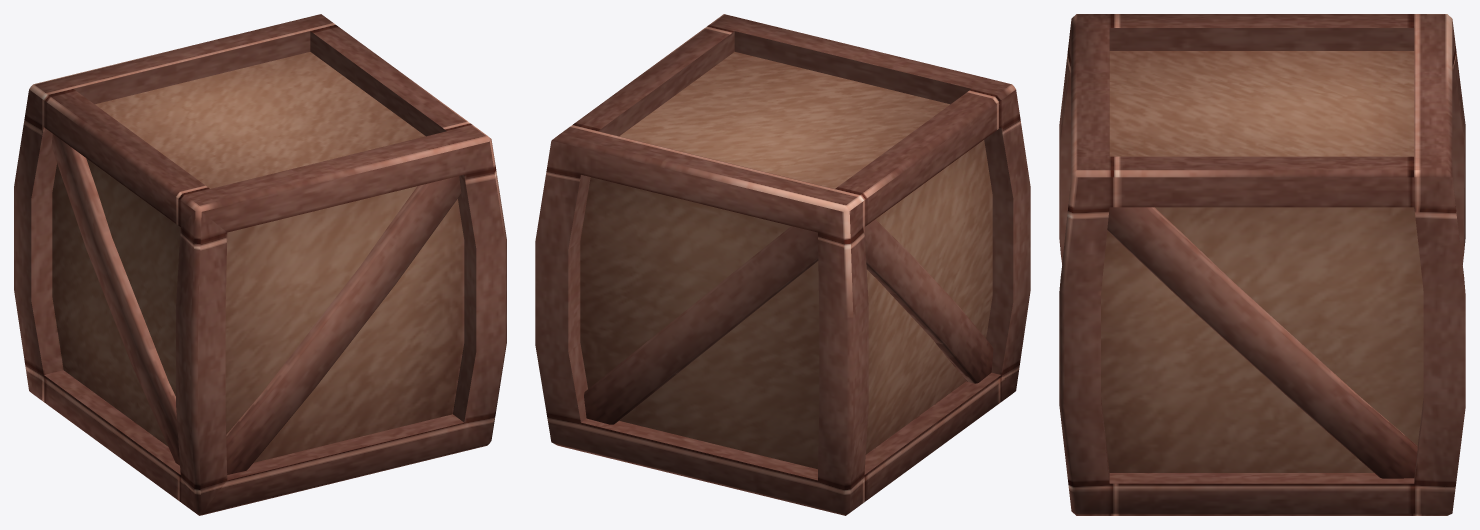
Rendered from PirateBox.fbx.
3 renders of one model, left to right at view 1: azimuth 30°, elevation 25°; view 2: azimuth 150°, elevation 25°; view 3: azimuth 270°, elevation 25°, orthographic. The views are drawn at different scales.
Visible parts, largest first — view 1: Box; view 2: Box; view 3: Box.
Part boxes in pixels (bbox=[...]): Box: bbox=[14, 14, 506, 515]; Box: bbox=[535, 14, 1030, 515]; Box: bbox=[1059, 14, 1465, 515].
Bounding box in the file's own units: 320 × 300 × 320.
1 material, 1 textured.
